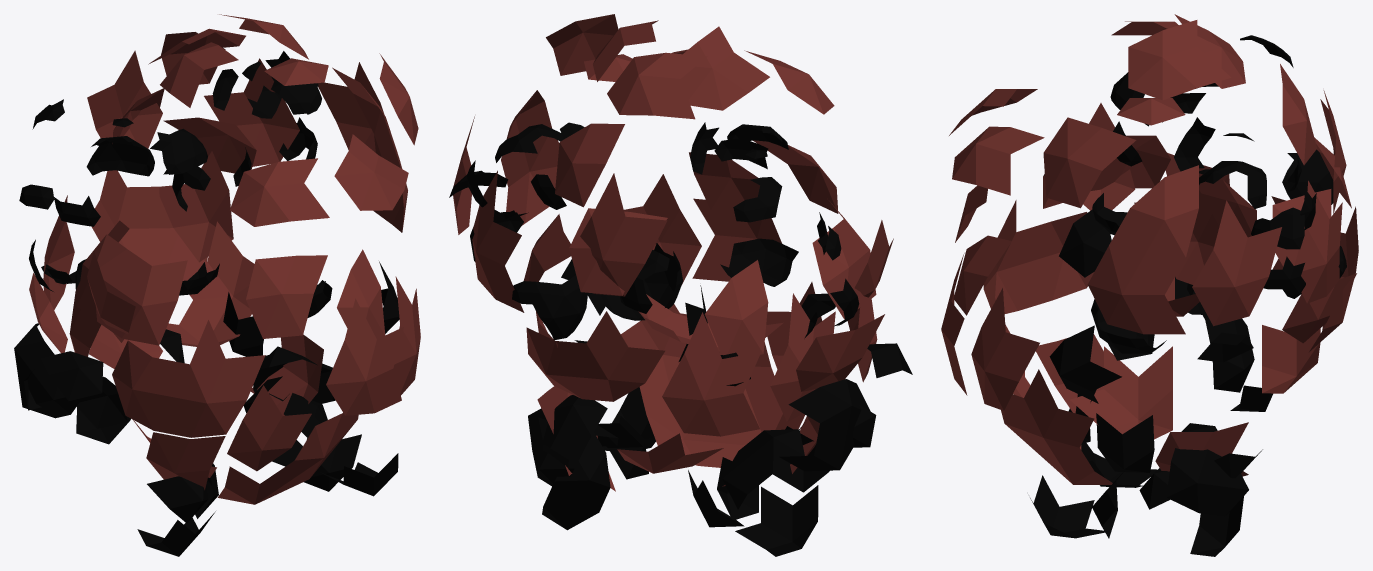
Rendered from explode.f0005.glb.
3 views of the same model, side by side, from view 1: azimuth 30°, elevation 25°; view 2: azimuth 150°, elevation 25°; view 3: azimuth 270°, elevation 25° (orthographic). The views are drawn at different scales.
Visible parts, largest first — view 1: Body.001; view 2: Body.001; view 3: Body.001.
Part boxes in pixels (x1,y1,x2,y2): Body.001: [14, 14, 420, 556]; Body.001: [449, 14, 912, 556]; Body.001: [941, 14, 1358, 556].
Bounding box in the file's own units: 3.28 × 4.08 × 3.03.
Materials: 1 (1 with a texture image).
